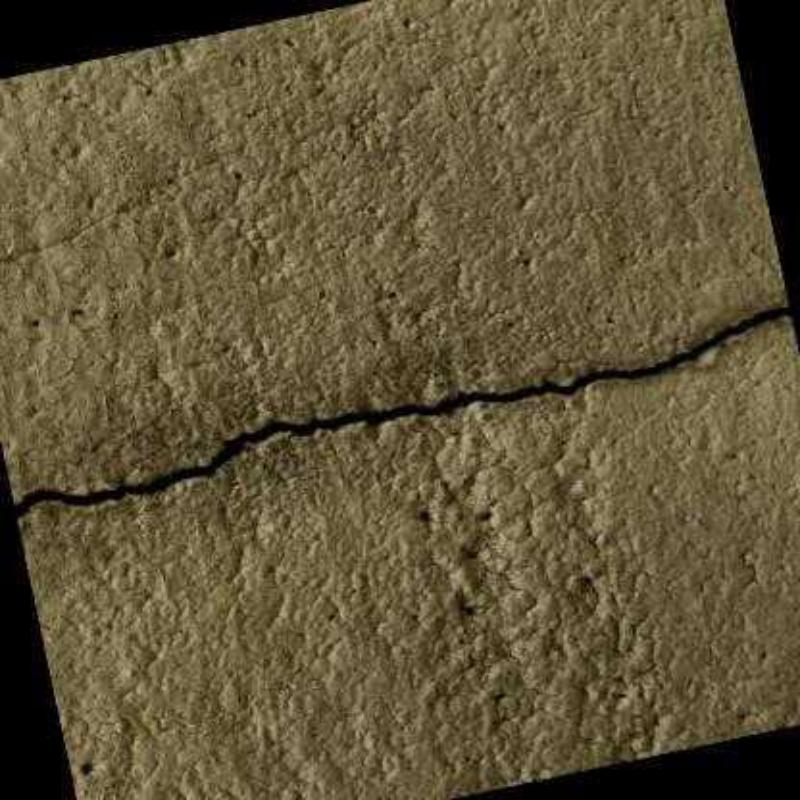crack: (13, 303, 791, 516)
